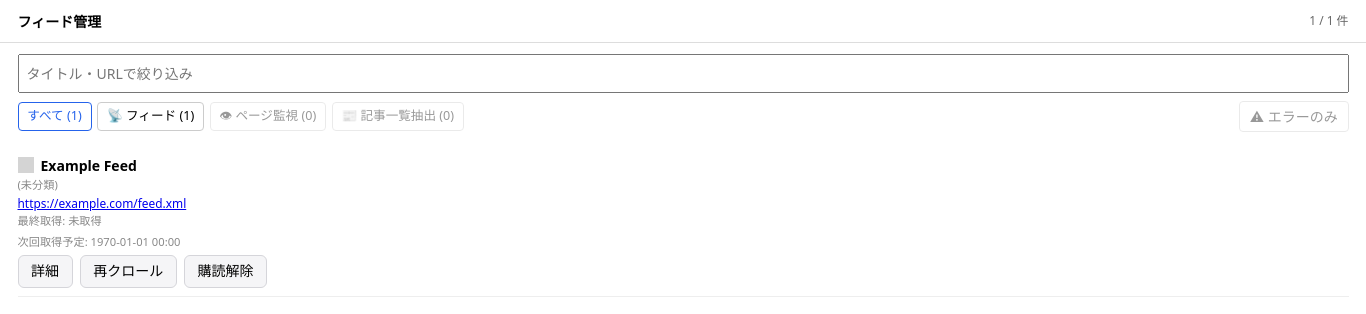
Scenario: FeedManagerPane kind filter › disables a kind button with no feeds, but keeps the active one clickable
The width and height of the screenshot is (1366, 314).
Click the button "📰 記事一覧抽出 (0)" at (398, 117), box [332,102,464,131]
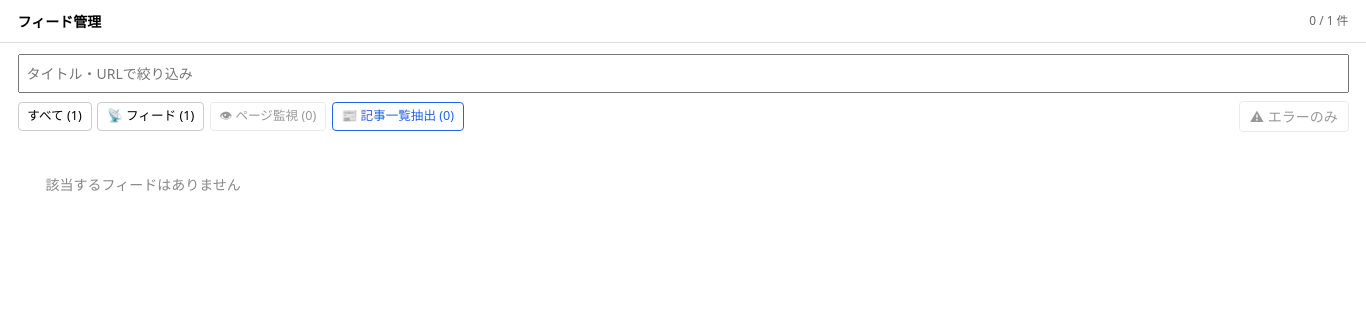
Expected: the button "📰 記事一覧抽出 (0)" is enabled, [332,102,464,131]
